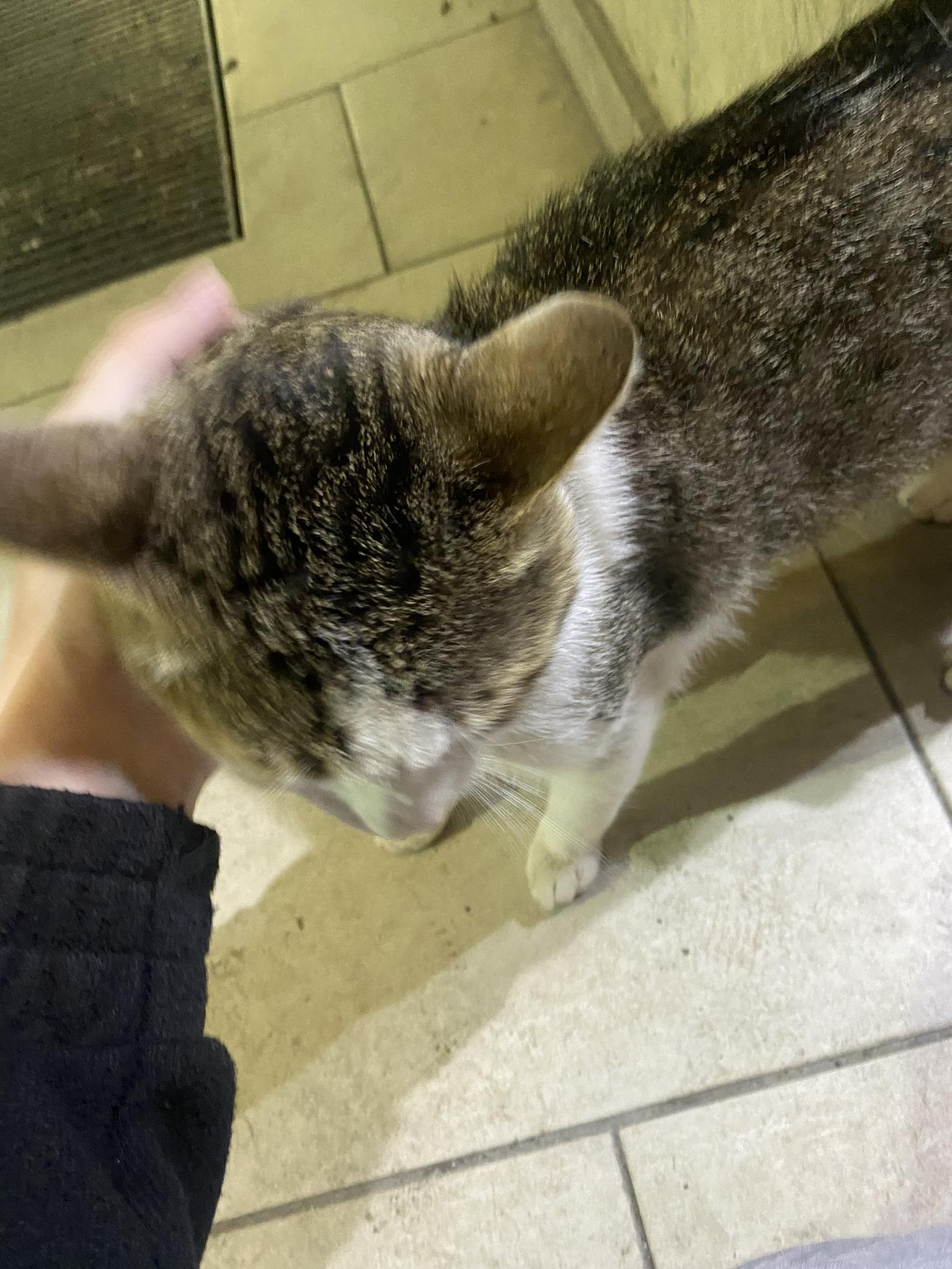macka: (0, 0, 952, 910)
